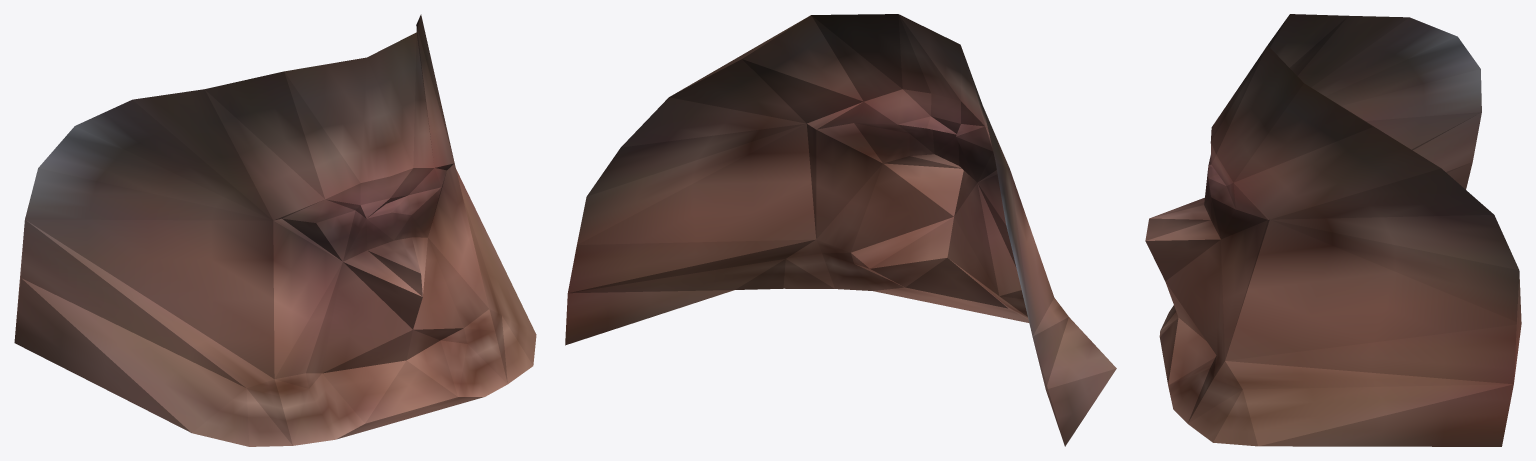
The model's file is real_8201.obj.
The picture shows the model from 3 angles, left to right: view 1: azimuth 30°, elevation 25°; view 2: azimuth 150°, elevation 25°; view 3: azimuth 270°, elevation 25°; orthographic projection. The views are drawn at different scales.
Size of the model in its own units: 111 by 73 by 75.78.
